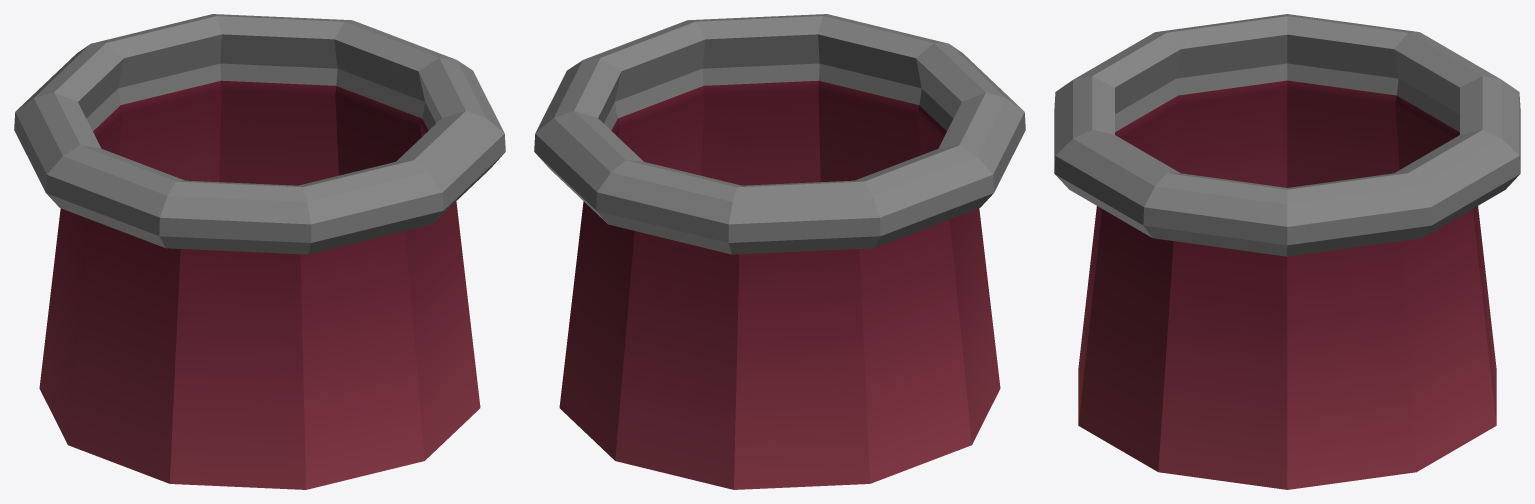
The model's file is accessories_showercurtain.fbx.
3 renders of one model, left to right at view 1: azimuth 30°, elevation 25°; view 2: azimuth 150°, elevation 25°; view 3: azimuth 270°, elevation 25°, orthographic.
Visible parts, largest first — view 1: Curtain; view 2: Curtain; view 3: Curtain.
Boxes of the visible parts, <box> form: Curtain: <box>14,14,505,489</box>; Curtain: <box>534,14,1025,489</box>; Curtain: <box>1054,14,1520,489</box>.
Bounding box in the file's own units: 4.85 × 3.21 × 4.61.
1 material, 1 textured.
